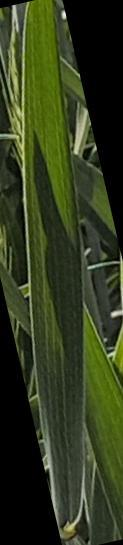Wheat: (28, 317, 92, 529), (26, 125, 77, 314), (26, 11, 57, 111)
